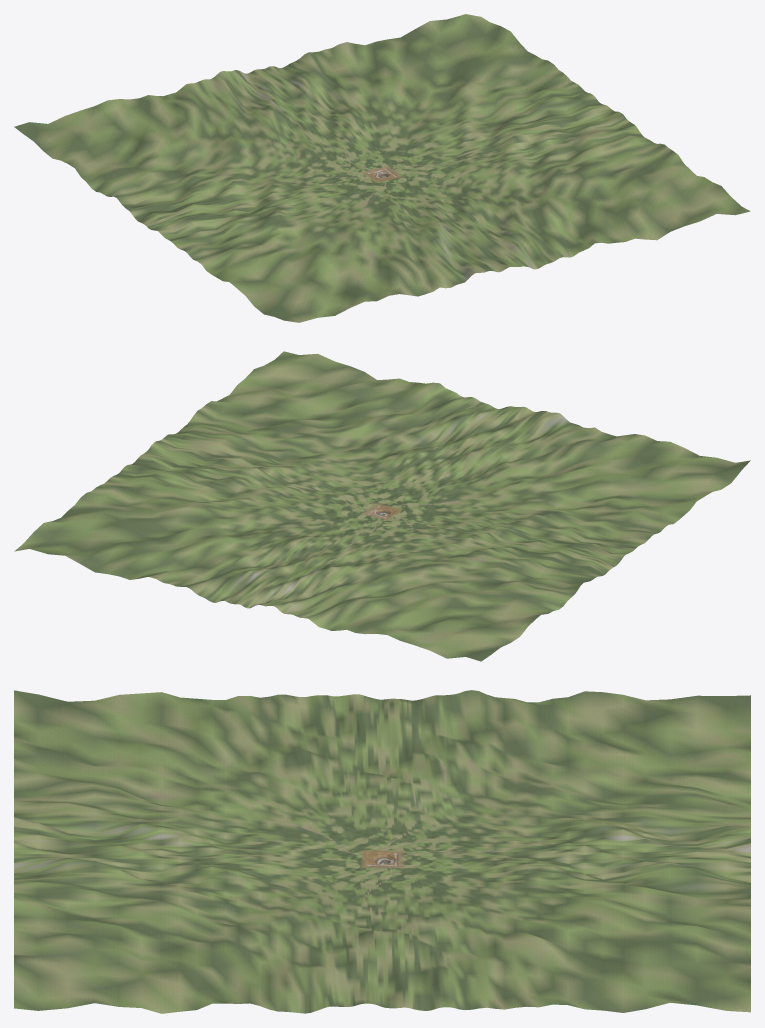
File: surround.glb
3 renders of one model, top to bottom at view 1: azimuth 30°, elevation 25°; view 2: azimuth 150°, elevation 25°; view 3: azimuth 270°, elevation 25°, orthographic. The views are drawn at different scales.
Visible parts, largest first — view 1: surround; view 2: surround; view 3: surround.
Part boxes in pixels (<box>): surround: <box>14,14,750,322</box>; surround: <box>14,351,750,661</box>; surround: <box>14,690,750,1013</box>.
Size of the model in its own units: 6000 by 175 by 6000.
Materials: 1 (1 with a texture image).
